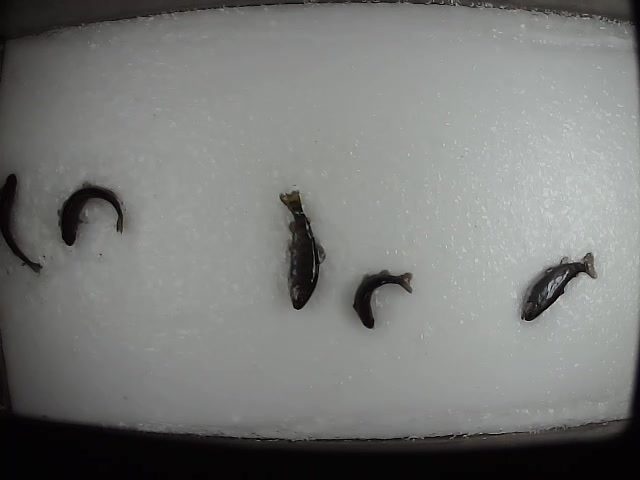fish: (516, 250, 601, 323), (278, 187, 327, 311), (55, 177, 126, 246), (1, 171, 43, 274), (349, 267, 416, 329)
